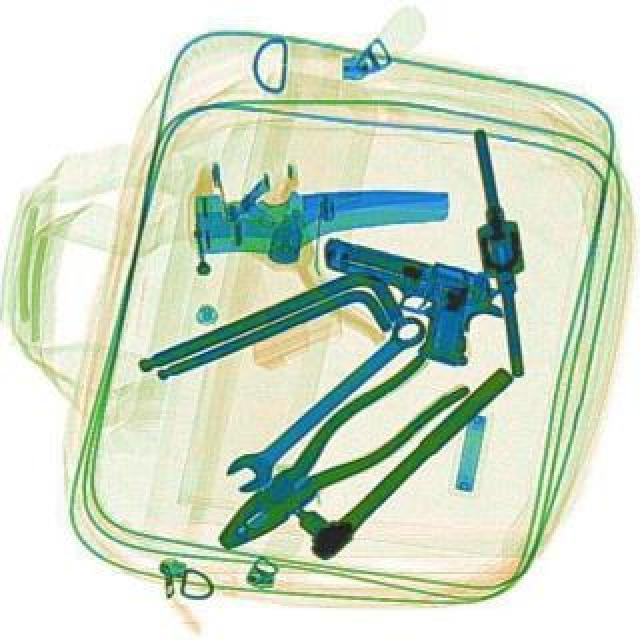gun: (296, 232, 512, 374)
scissors: (216, 306, 436, 498)
wrench: (198, 340, 470, 568)
